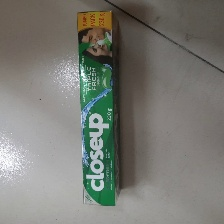CloseUp Xanh: (75, 10, 121, 205)
